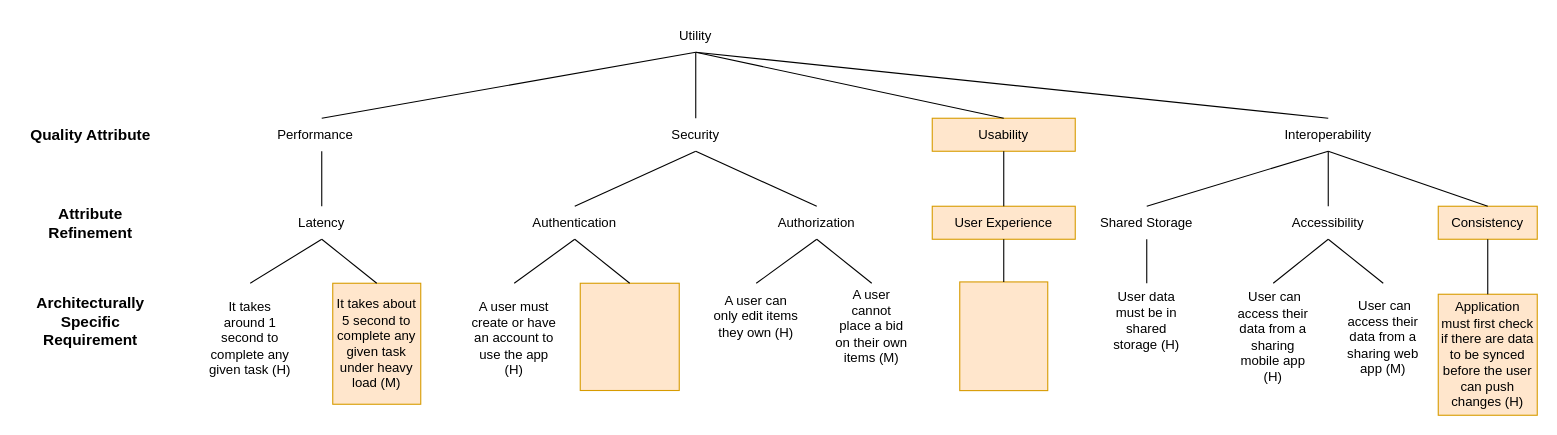
The diagram is 1557 pixels wide and 435 high, and some of its shapes have lost their labels. Each missing label, with the centre of its shape:
"A user must be notified for successful and non-successful requests (H)" belongs at point 1003,336.
"A user must login to the app using a username/email and a password (H)" belongs at point 629,336.
